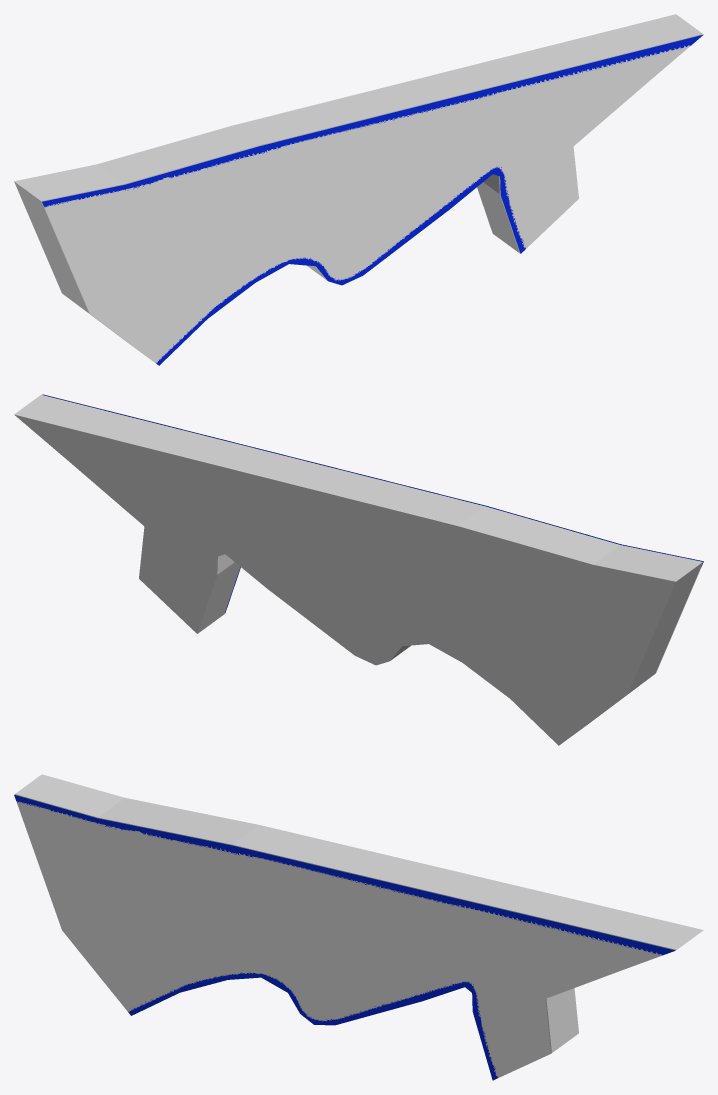
The picture shows the model from 3 angles, top to bottom: view 1: azimuth 30°, elevation 25°; view 2: azimuth 150°, elevation 25°; view 3: azimuth 330°, elevation 25°; orthographic projection.
Parts seen in each view (by area): view 1: Out_4_1, Out_4_0; view 2: Out_4_0, Out_4_1; view 3: Out_4_1, Out_4_0.
Part boxes in pixels (x1,y1,x2,y2): Out_4_1: (42, 34, 703, 365); Out_4_0: (14, 14, 702, 357); Out_4_0: (14, 394, 702, 745); Out_4_1: (42, 394, 703, 673); Out_4_1: (14, 795, 675, 1080); Out_4_0: (15, 774, 703, 1053).
Size of the model in its own units: 7.04 by 2.02 by 0.515.
Materials: 2 (1 with a texture image).
